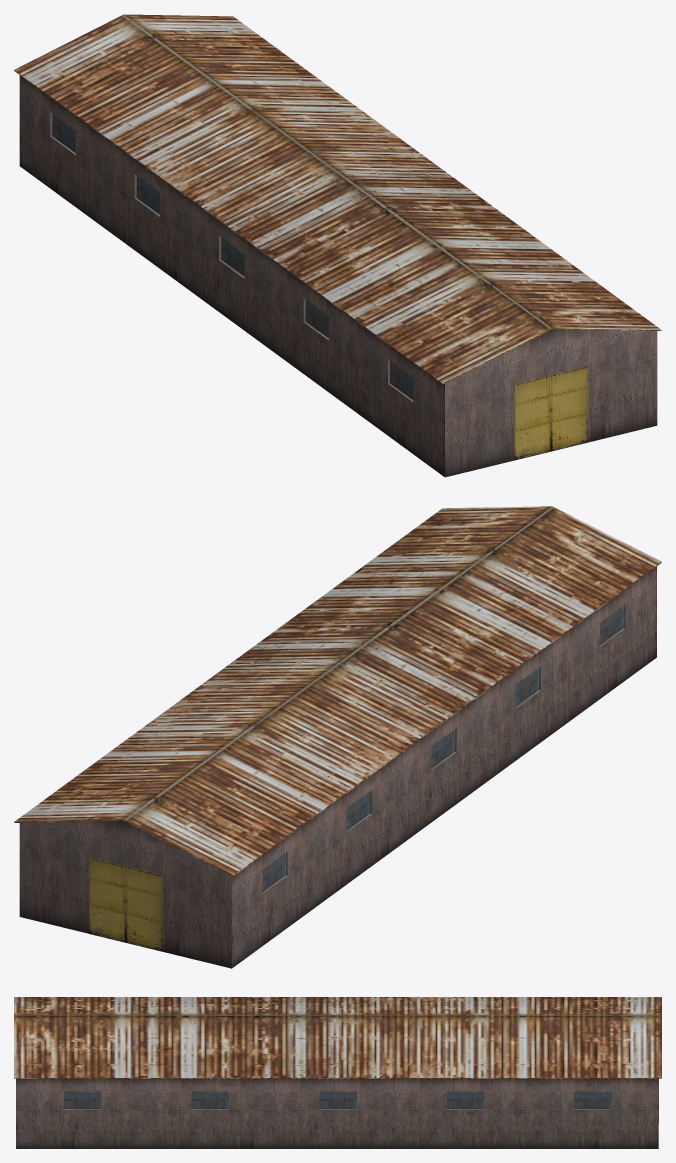
File: r402_borovoe_angar4.FBX
The picture shows the model from 3 angles, top to bottom: view 1: azimuth 30°, elevation 25°; view 2: azimuth 150°, elevation 25°; view 3: azimuth 270°, elevation 25°; orthographic projection. The views are drawn at different scales.
Parts seen in each view (by area): view 1: r402_borovoe_angar4; view 2: r402_borovoe_angar4; view 3: r402_borovoe_angar4.
Part boxes in pixels (x1=…): r402_borovoe_angar4: x1=14, y1=14, x2=661, y2=477; r402_borovoe_angar4: x1=14, y1=506, x2=661, y2=968; r402_borovoe_angar4: x1=14, y1=997, x2=661, y2=1148.
Size of the model in its own units: 1200 by 4062 by 650.
